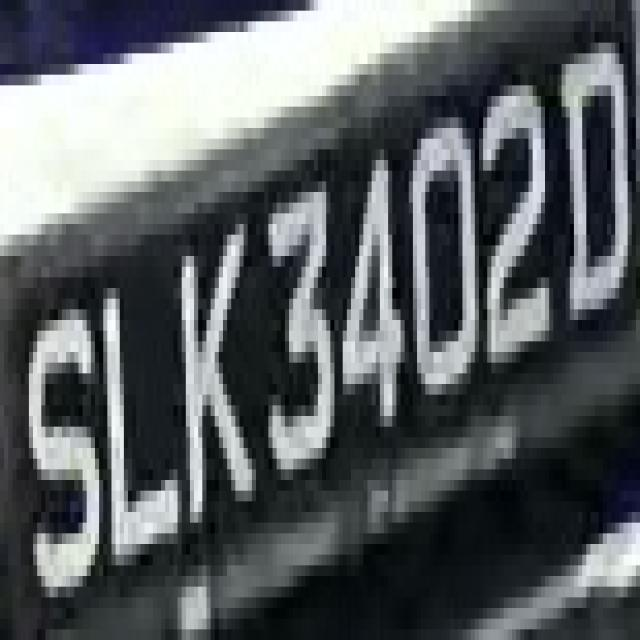0: (396, 96, 479, 416)
2: (479, 43, 562, 405)
3: (248, 160, 338, 491)
4: (326, 118, 405, 438)
D: (549, 32, 640, 331)
K: (169, 192, 252, 576)
L: (99, 245, 182, 544)
S: (8, 256, 103, 619)
